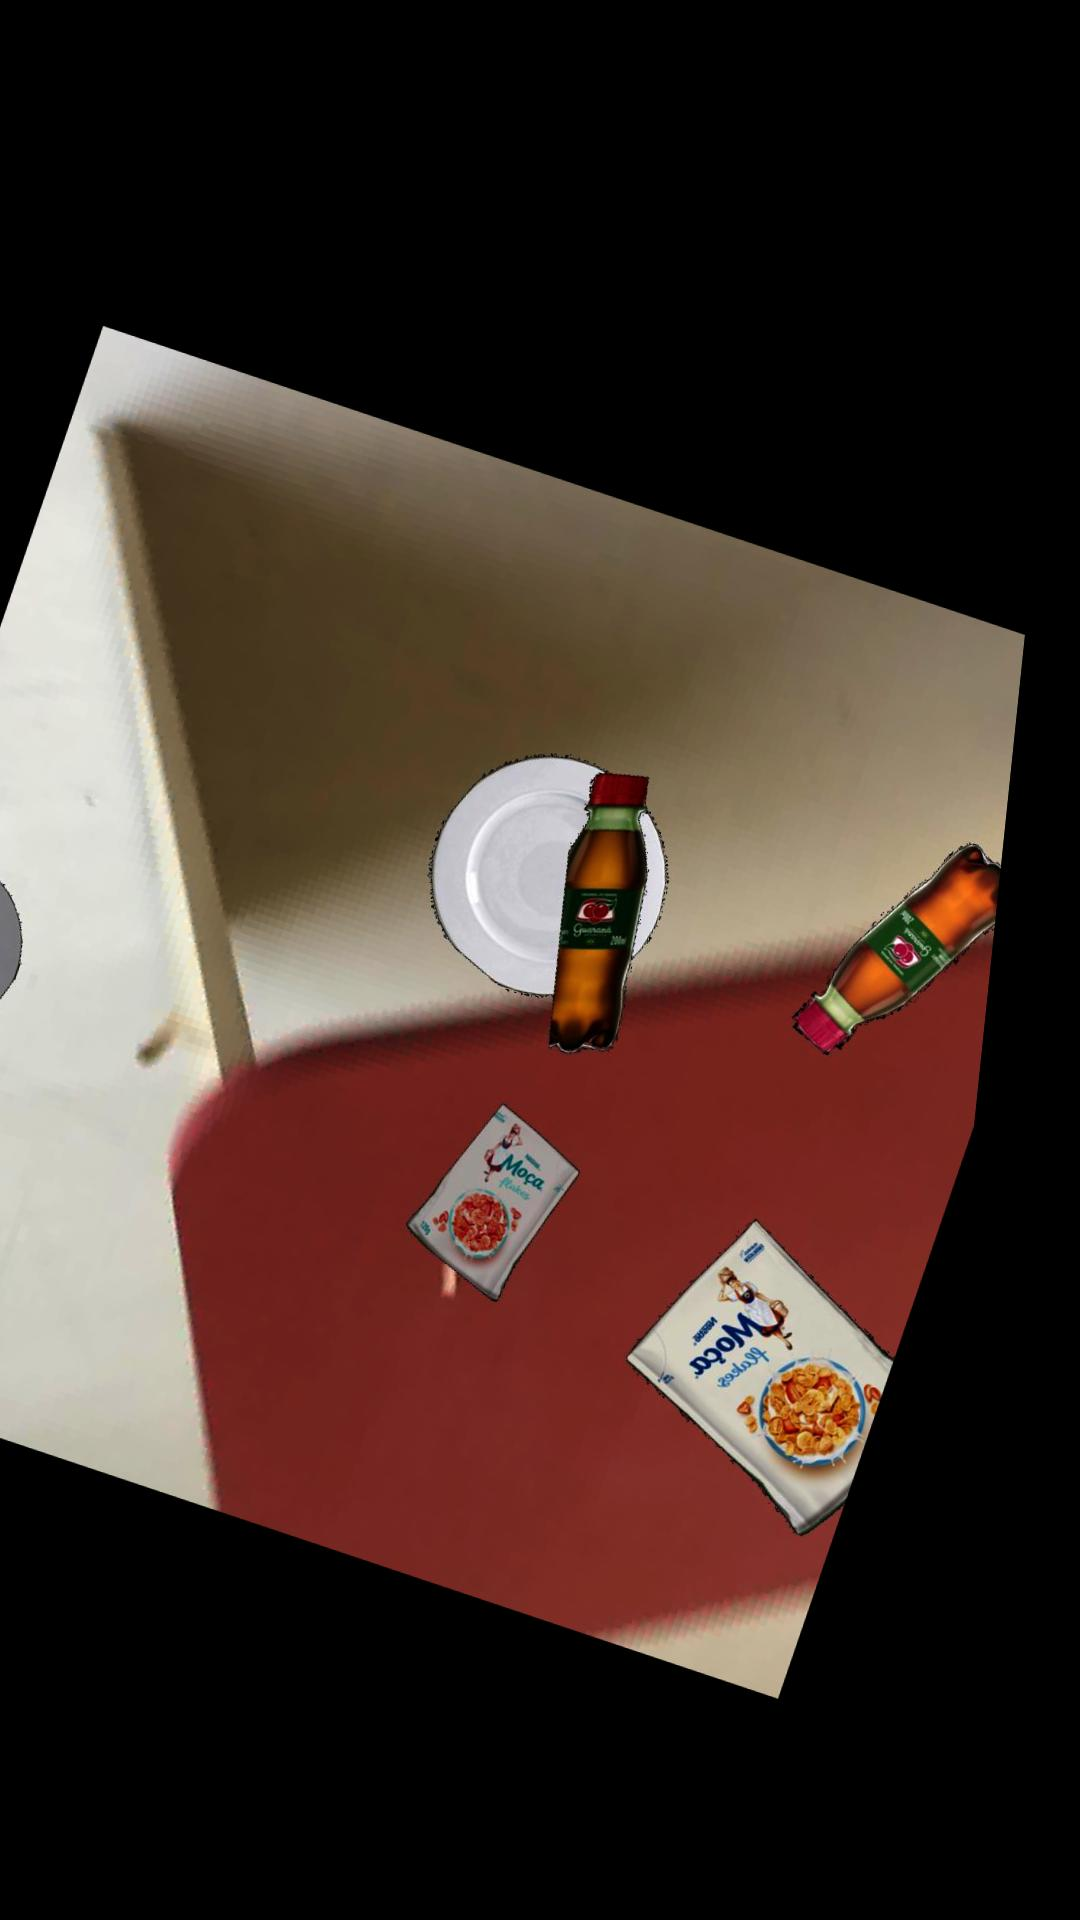corn flakes: (655, 1199, 922, 1515), (433, 1089, 605, 1287)
guarana: (814, 820, 1018, 1034), (571, 757, 666, 1038)
plate: (448, 738, 686, 982), (0, 860, 44, 1021)
